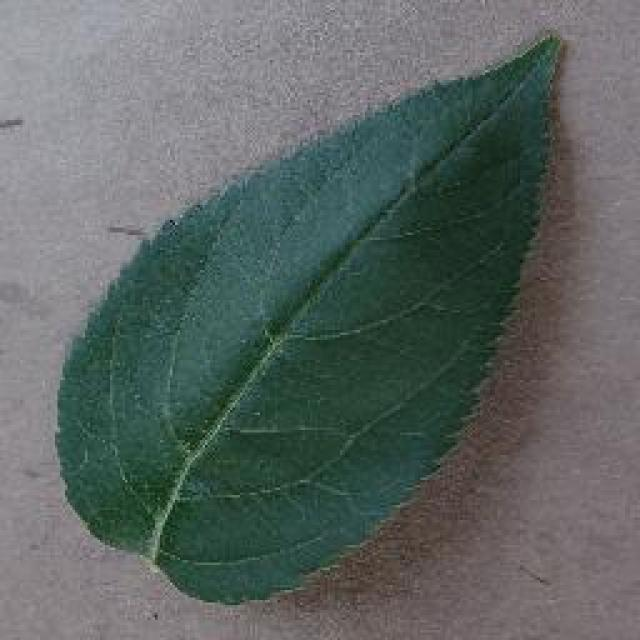Apple___healthy: (43, 20, 575, 625)
